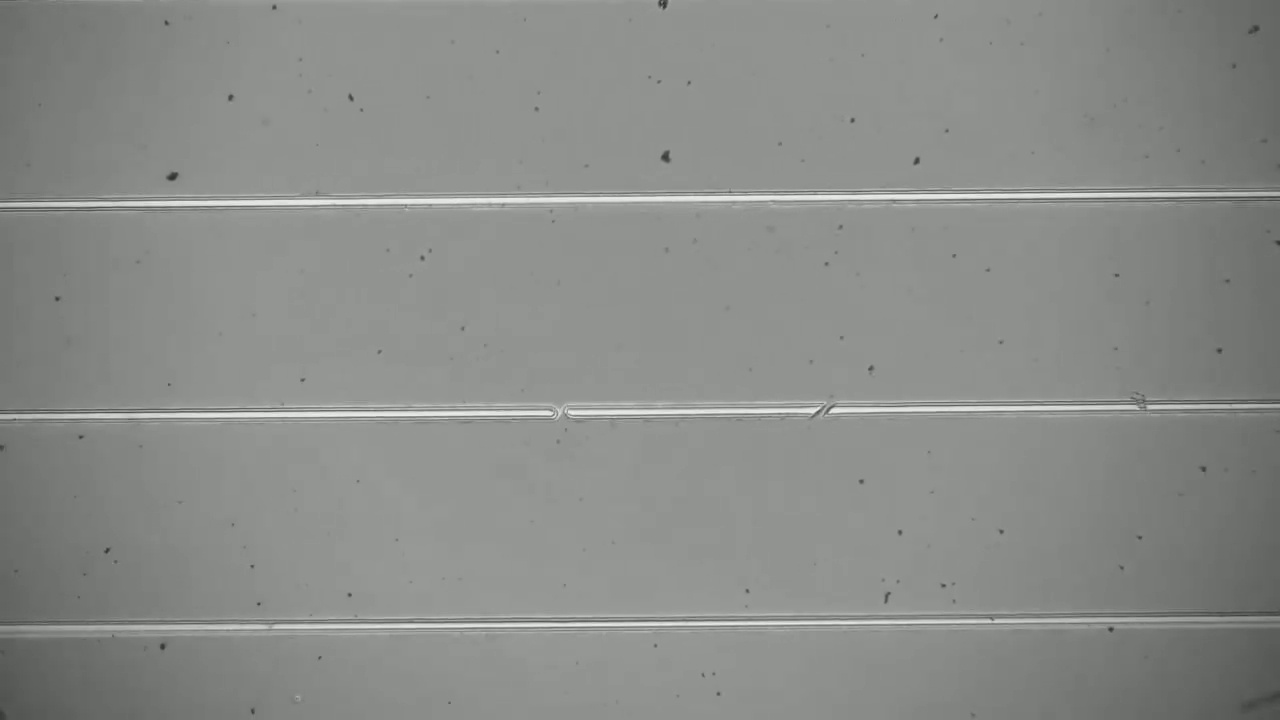open: (534, 391, 585, 433), (802, 395, 846, 427)
stains_enbedded: (1121, 384, 1155, 425)
